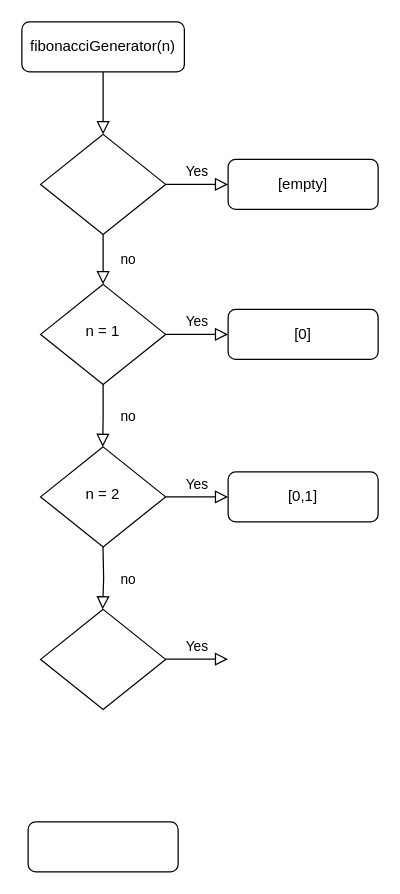
This 400x894 diagram has some shape labels left out. Here are the shapes that lost their labels. From the top down, the centre of each, then its label:
At pixel 102 183: "n = 0".
At pixel 102 658: "n > 2".
At pixel 102 846: "Repair Lamp".
